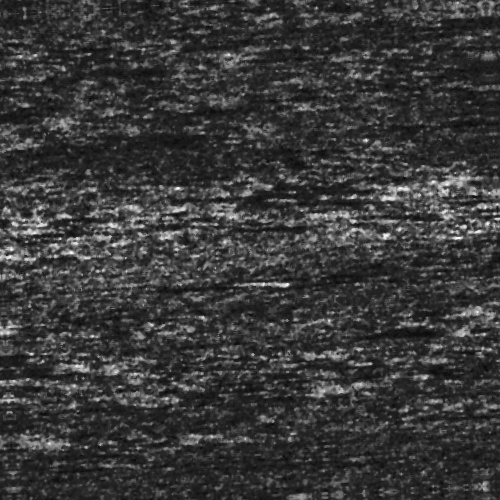object: (253, 391, 346, 400), (230, 278, 293, 283), (376, 189, 417, 196)
shadow: (159, 189, 396, 196), (367, 29, 500, 40), (220, 391, 299, 400), (180, 278, 261, 283)
